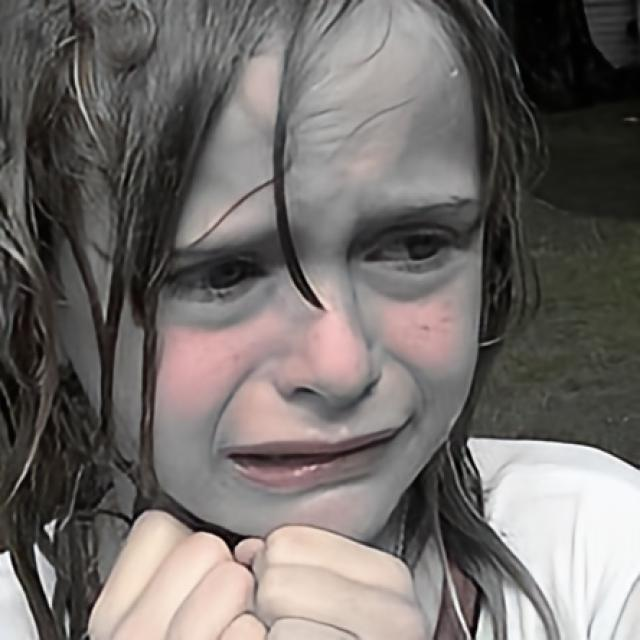sad: (52, 2, 484, 545)
